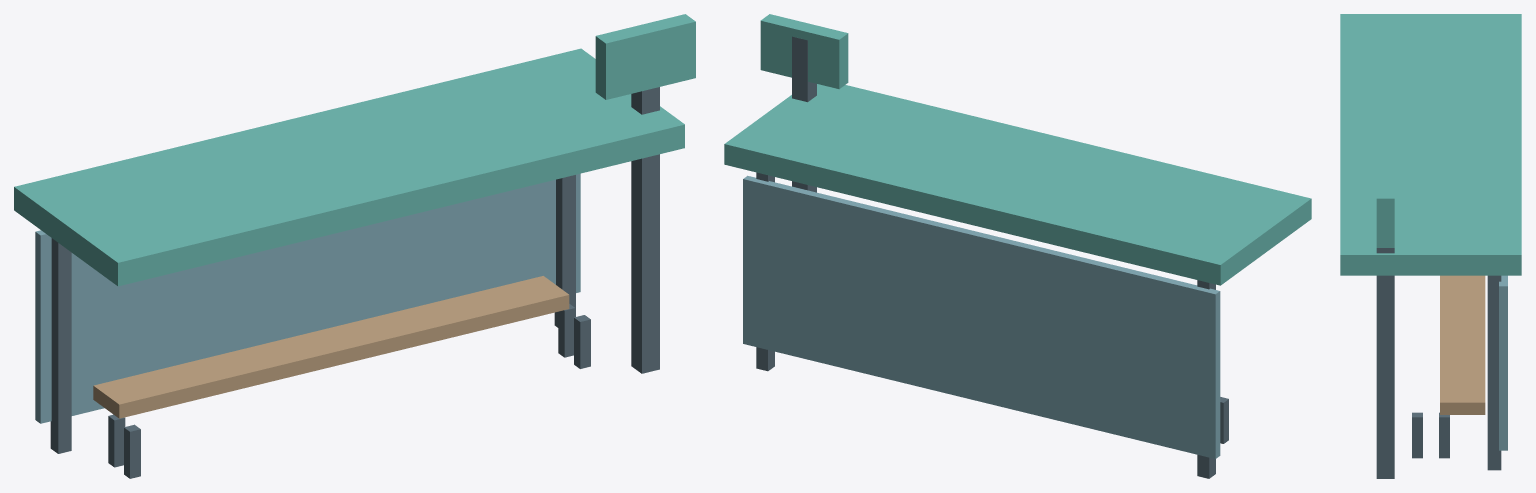
The model's file is voxel-city-districts-tram-shelter-f14870df__24829.glb.
The picture shows the model from 3 angles, left to right: view 1: azimuth 30°, elevation 25°; view 2: azimuth 150°, elevation 25°; view 3: azimuth 270°, elevation 25°; orthographic projection. The views are drawn at different scales.
Visible parts, largest first — view 1: tram-shelter-accent, tram-shelter-glass, tram-shelter-wood, tram-shelter-dark; view 2: tram-shelter-glass, tram-shelter-accent, tram-shelter-dark; view 3: tram-shelter-accent, tram-shelter-dark, tram-shelter-wood, tram-shelter-glass.
Boxes of the visible parts, box(x1,y1,x2,y2) form: tram-shelter-accent: box(14, 14, 695, 286); tram-shelter-glass: box(35, 173, 580, 423); tram-shelter-wood: box(93, 276, 569, 418); tram-shelter-dark: box(50, 87, 659, 478); tram-shelter-glass: box(743, 175, 1220, 458); tram-shelter-accent: box(724, 14, 1311, 285); tram-shelter-dark: box(756, 36, 1228, 478); tram-shelter-accent: box(1340, 14, 1521, 275); tram-shelter-dark: box(1376, 248, 1501, 478); tram-shelter-wood: box(1440, 275, 1485, 414); tram-shelter-glass: box(1499, 275, 1507, 450).
Bounding box in the file's own units: 6.65 × 3.6 × 2.
